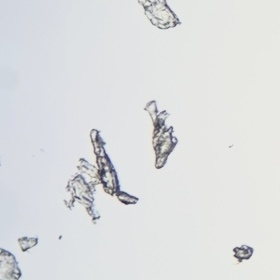microplastic: (64, 129, 139, 224), (144, 100, 178, 169), (138, 1, 182, 29), (1, 248, 21, 280), (233, 245, 253, 262), (17, 237, 39, 252)
